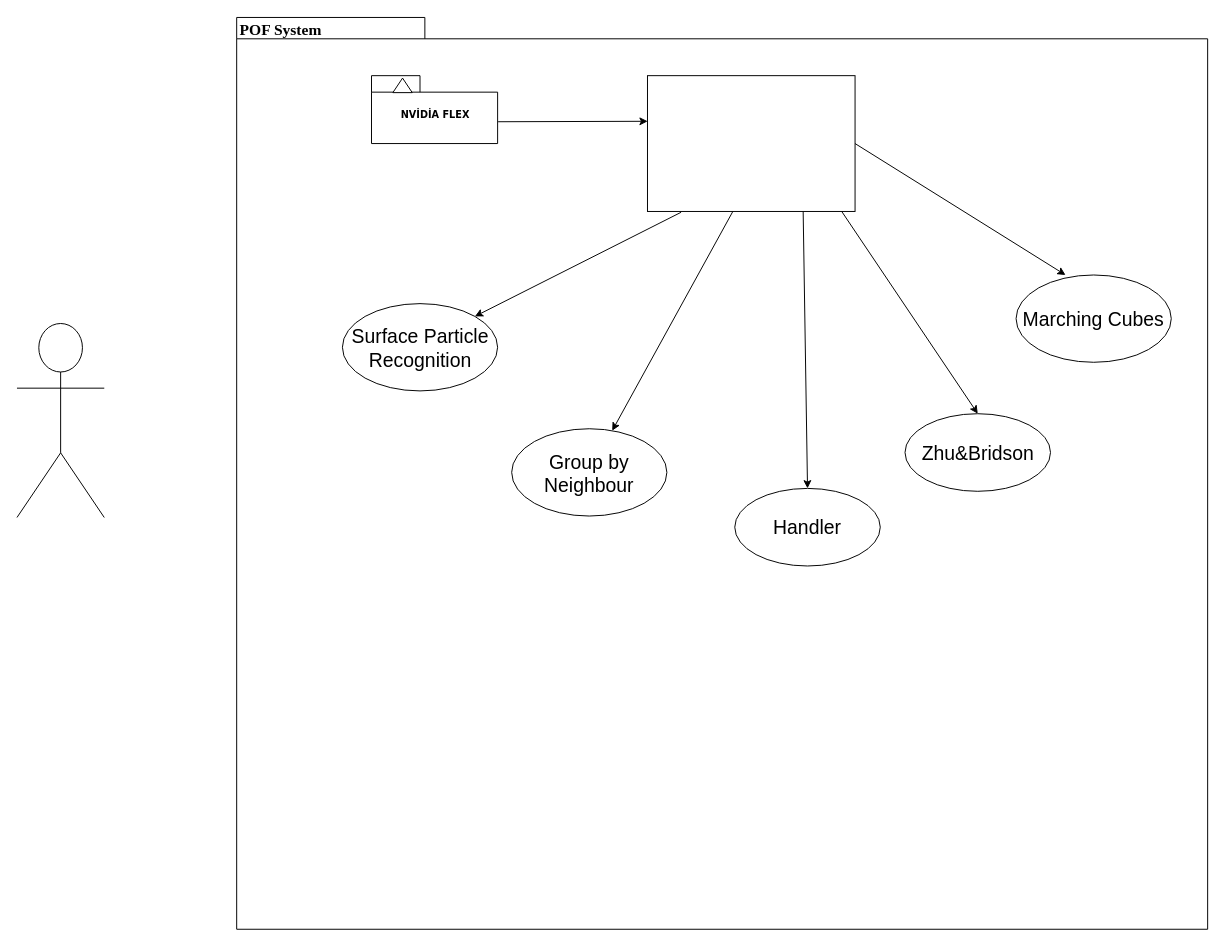
Image size: 1225x946. Some labels were removed from this diagram. The shapes that lost their labels are listed below. From the top down, each one's centre as x and y in pixels, then its label:
point 751,143: Particle Surface Reconstruction
point 60,420: User
